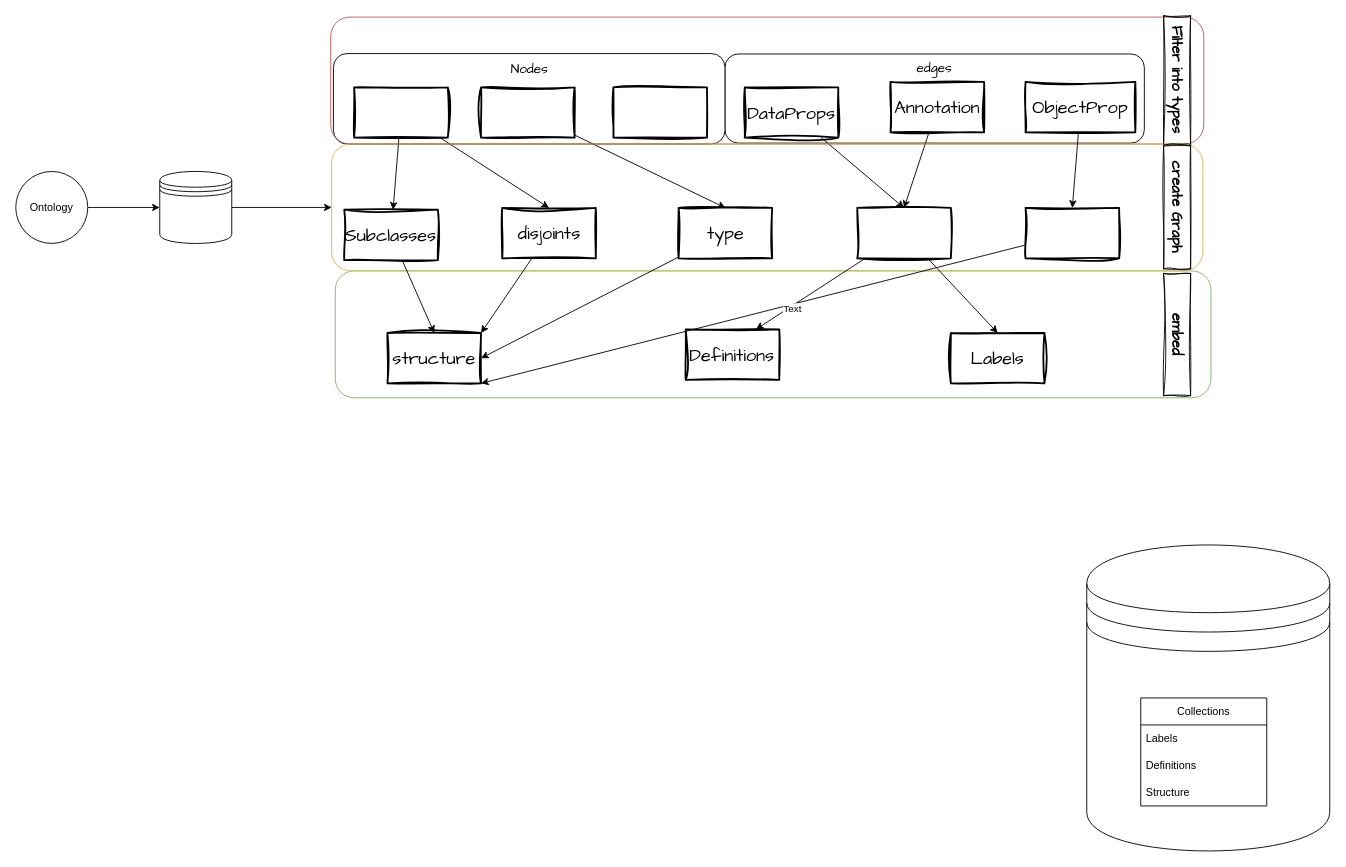
Some shapes in this 1346 by 867 pixel diagram are drawn without their labels. Each missing label, with the centre of its shape:
"Classes" goes at (x=400, y=112).
"Datatypes" goes at (x=659, y=112).
"dom-ran" goes at (x=1072, y=233).
"Individuals" goes at (x=527, y=112).
"literals" goes at (x=903, y=233).
"Oxi" goes at (x=195, y=207).
